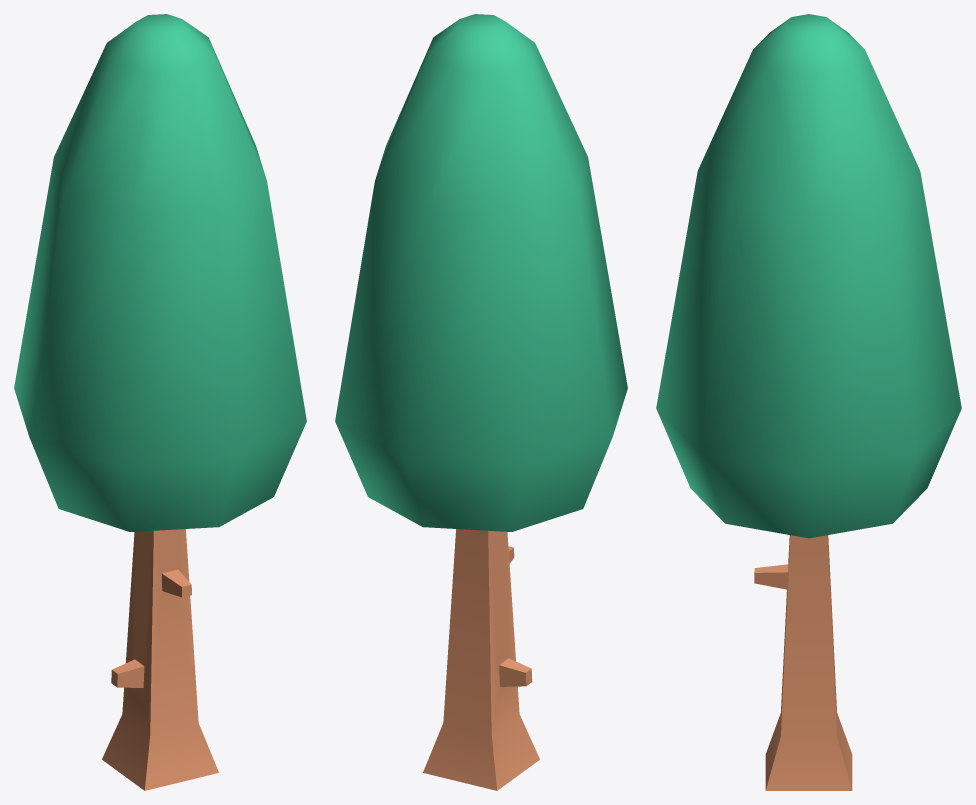
Rendered from treeHighRound.obj.
3 views of the same model, side by side, from view 1: azimuth 30°, elevation 25°; view 2: azimuth 150°, elevation 25°; view 3: azimuth 270°, elevation 25° (orthographic).
Visible parts, largest first — view 1: treeHighRound; view 2: treeHighRound; view 3: treeHighRound.
Boxes of the visible parts, x1,y1,x2,y2 form: treeHighRound: (14,14,306,790); treeHighRound: (335,14,627,790); treeHighRound: (656,14,961,790).
Bounding box in the file's own units: 1.02 × 2.75 × 1.02.
